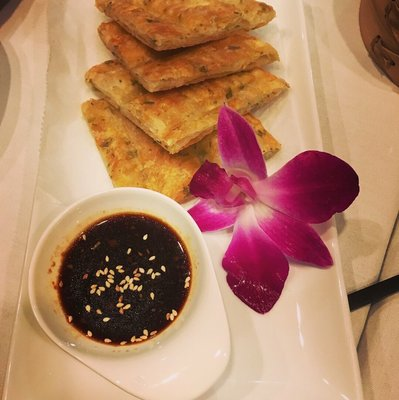sushi: (25, 186, 206, 357)
